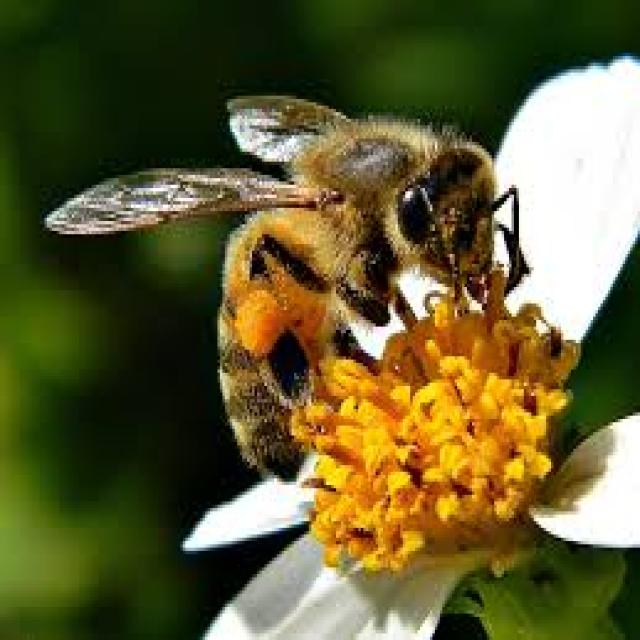Bees: (46, 95, 527, 483)
